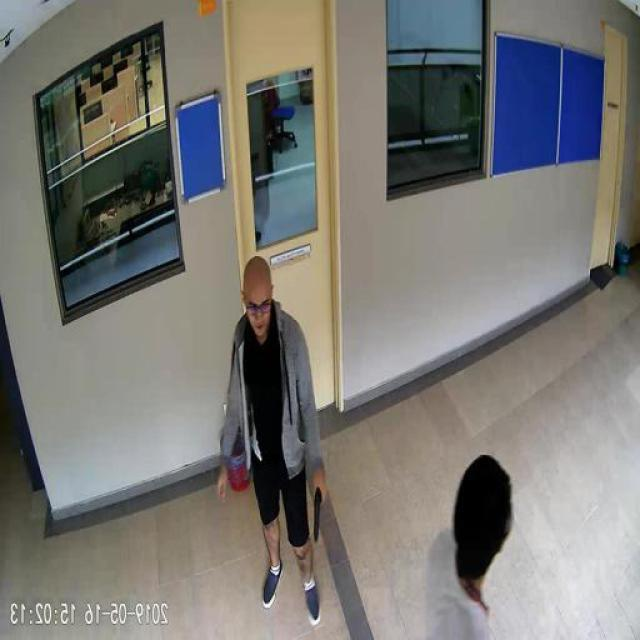weapon: (311, 468, 328, 546)
